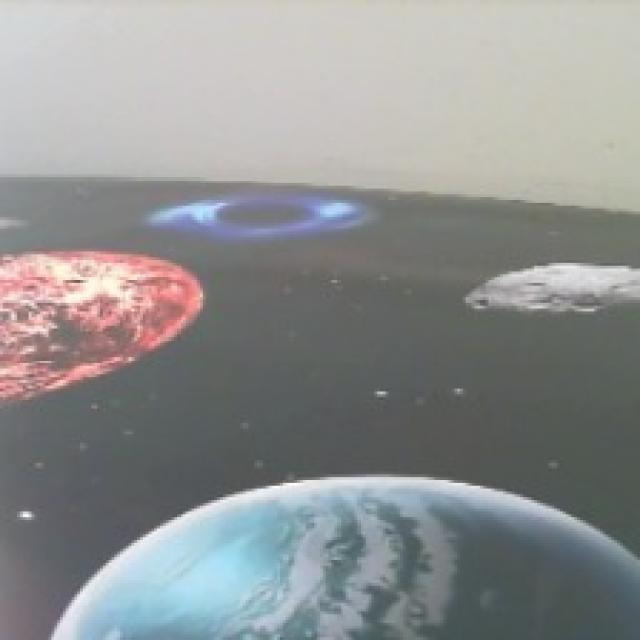Asteroid: (463, 261, 640, 320)
Black Hole: (144, 193, 377, 240)
Earth: (52, 474, 637, 640)
Sun: (0, 248, 205, 405)
